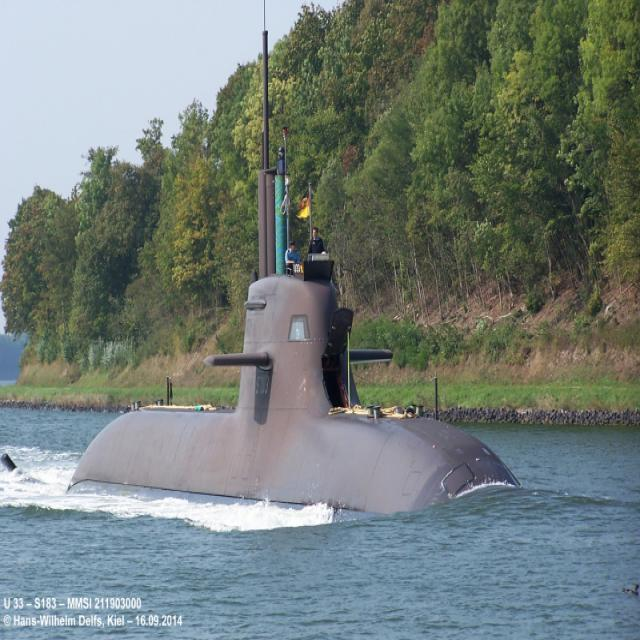submarine: (2, 7, 527, 529)
